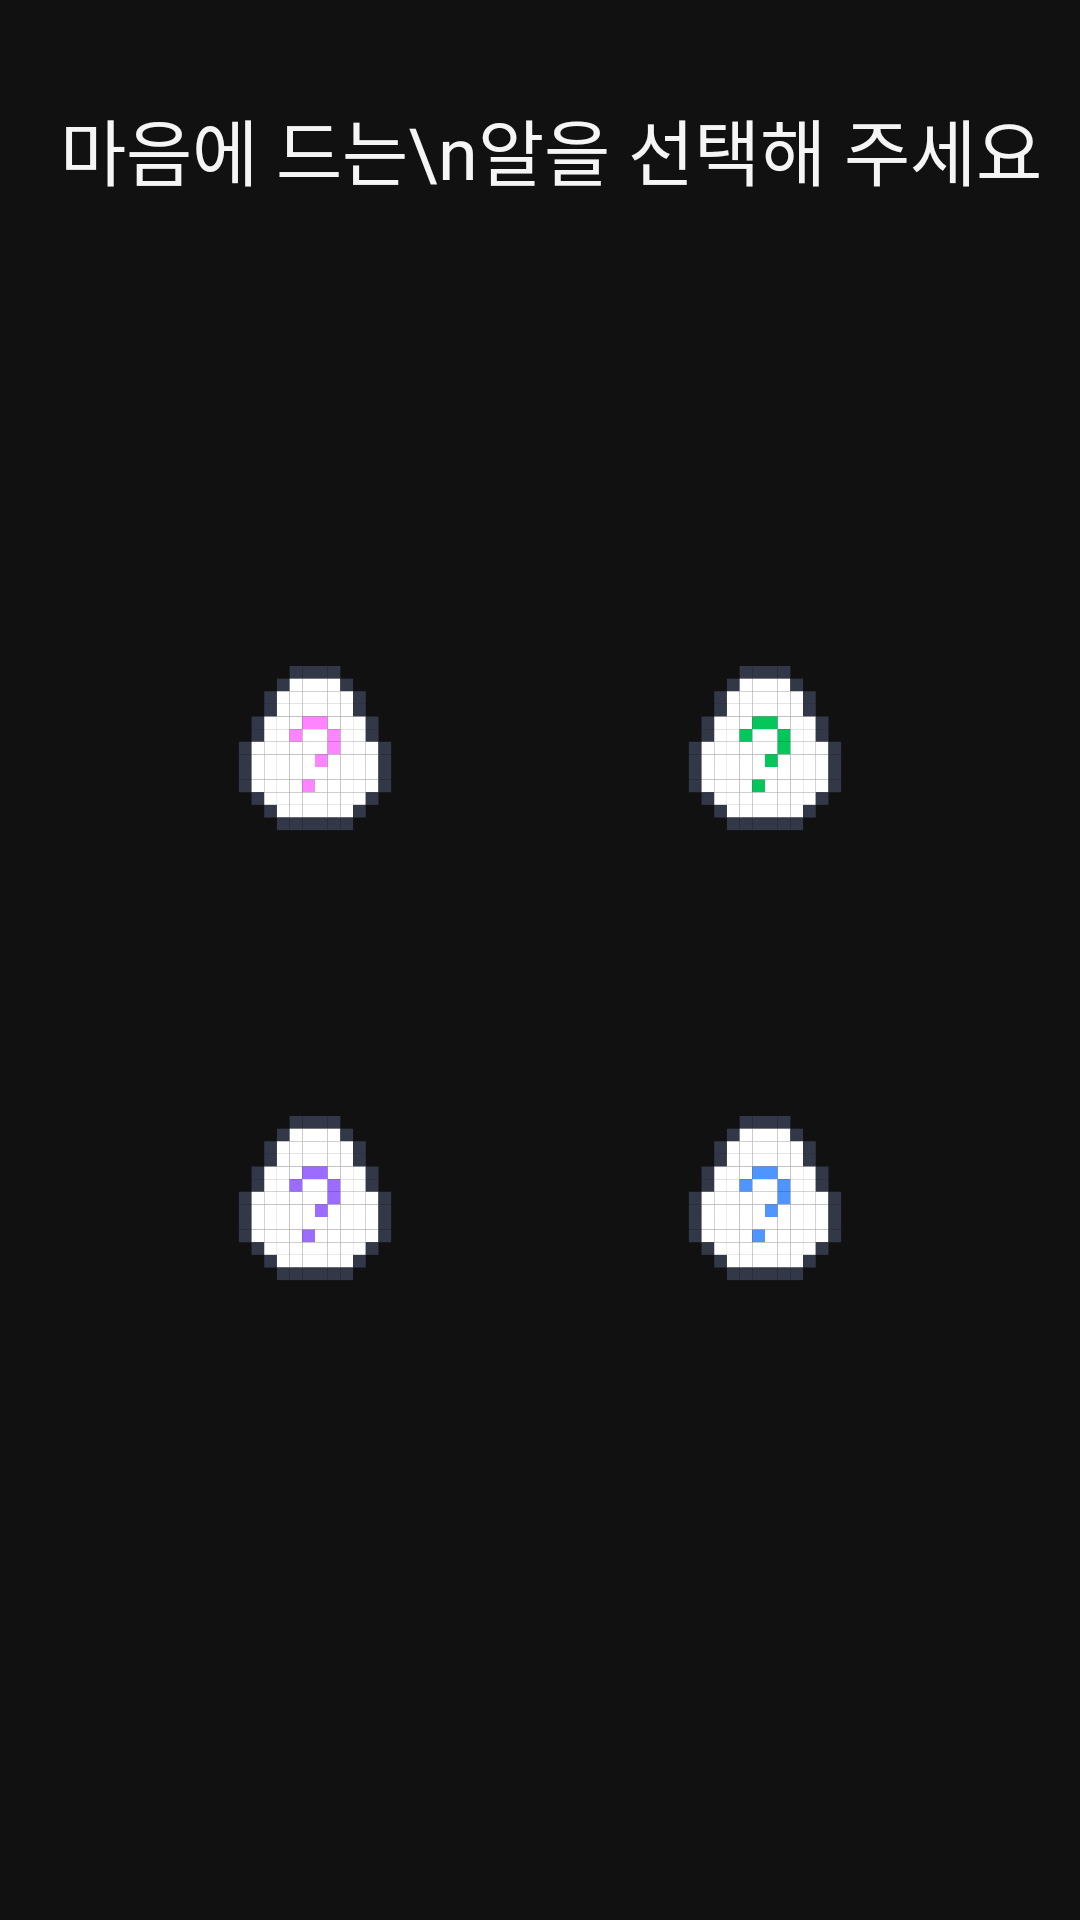

Icon click points for this 1080x1920 phone screenshot, format point (x, y):
egg: point (315, 748), point (765, 748), point (315, 1198), point (765, 1198)
